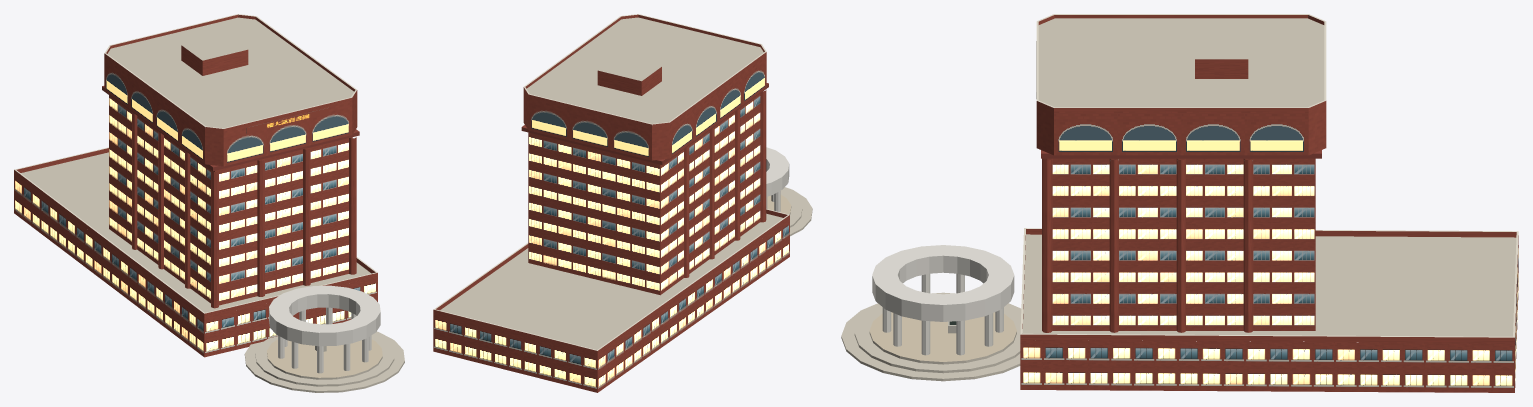
The model's file is library.glb.
3 renders of one model, left to right at view 1: azimuth 30°, elevation 25°; view 2: azimuth 150°, elevation 25°; view 3: azimuth 270°, elevation 25°, orthographic. The views are drawn at different scales.
Parts seen in each view (by area): view 1: library.001; view 2: library.001; view 3: library.001.
Part boxes in pixels (x1=…): library.001: x1=14, y1=14, x2=404, y2=392; library.001: x1=433, y1=14, x2=812, y2=392; library.001: x1=841, y1=14, x2=1518, y2=392.
Bounding box in the file's own units: 38.64 × 48.2 × 101.
1 material, 1 textured.
